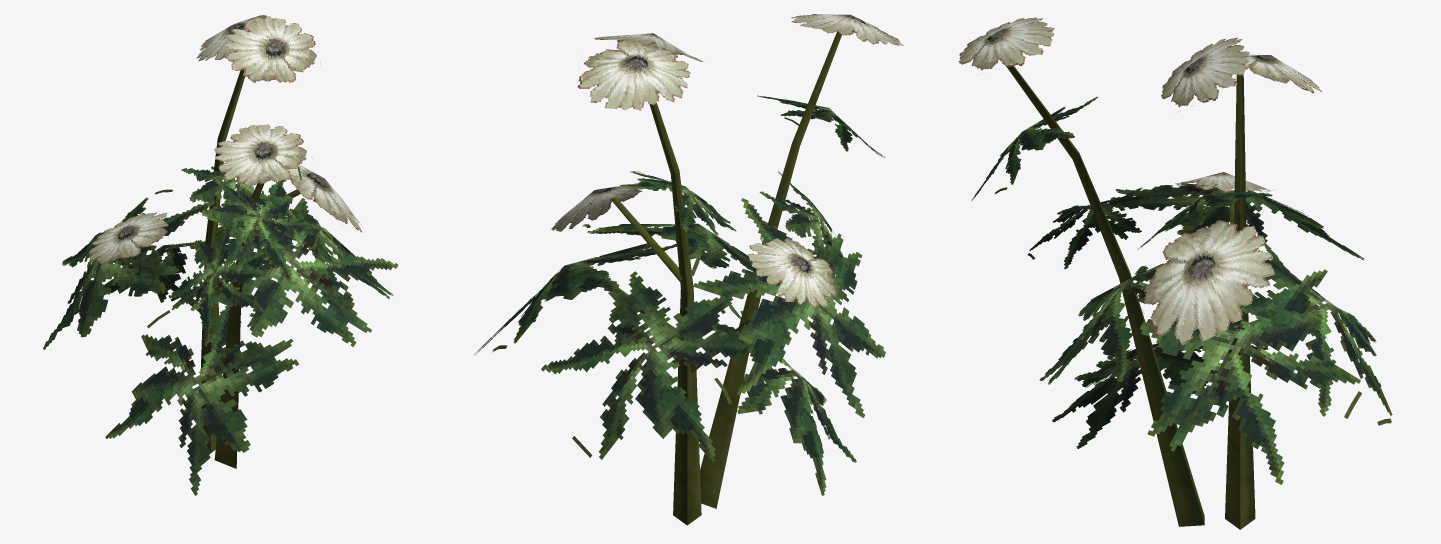
Rendered from guanmu_019.FBX.
3 renders of one model, left to right at view 1: azimuth 30°, elevation 25°; view 2: azimuth 150°, elevation 25°; view 3: azimuth 270°, elevation 25°, orthographic. The views are drawn at different scales.
Visible parts, largest first — view 1: guanmu_019_01, guanmu_019_02, guanmu_019_04; view 2: guanmu_019_01, guanmu_019_02, guanmu_019_04; view 3: guanmu_019_01, guanmu_019_02, guanmu_019_04.
Part boxes in pixels (left/top/right/bottom): guanmu_019_01: left=43, top=166, right=398, bottom=495; guanmu_019_02: left=89, top=15, right=361, bottom=264; guanmu_019_04: left=113, top=69, right=300, bottom=468; guanmu_019_01: left=474, top=95, right=885, bottom=495; guanmu_019_02: left=550, top=14, right=903, bottom=306; guanmu_019_04: left=583, top=31, right=841, bottom=525; guanmu_019_01: left=971, top=96, right=1392, bottom=484; guanmu_019_02: left=958, top=17, right=1321, bottom=345; guanmu_019_04: left=1006, top=66, right=1255, bottom=529.
Bounding box in the file's own units: 0.7944 × 0.9145 × 0.7674.
